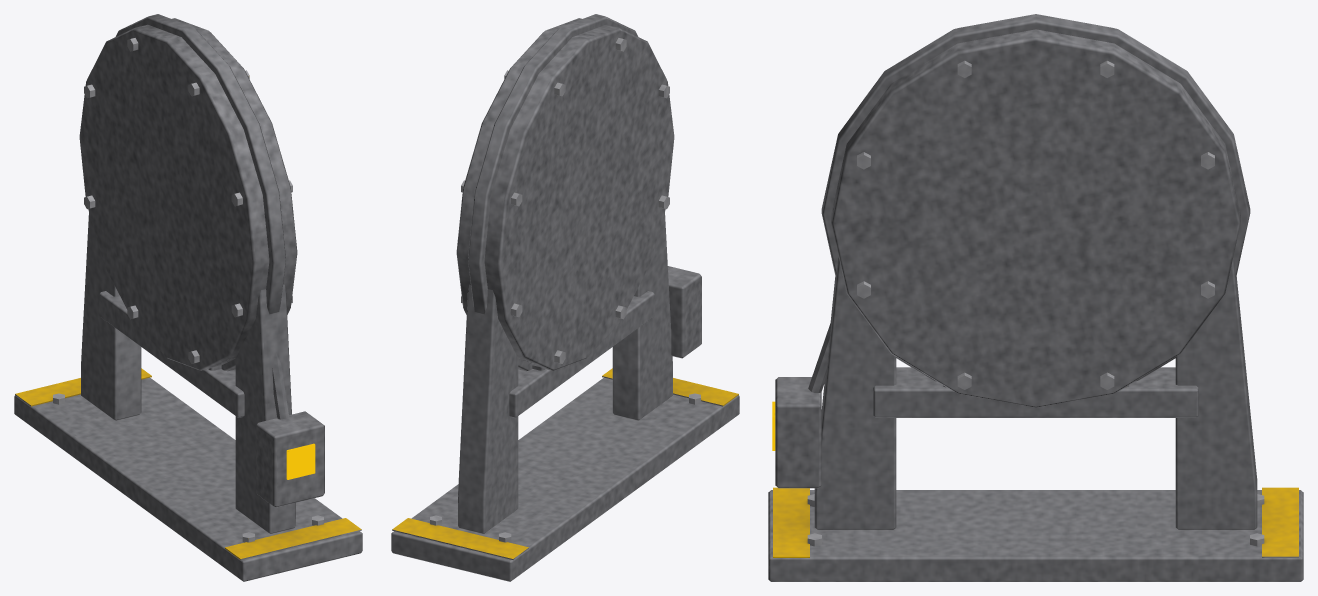
The model's file is nodexeus-cradle.glb.
The picture shows the model from 3 angles, left to right: view 1: azimuth 30°, elevation 25°; view 2: azimuth 150°, elevation 25°; view 3: azimuth 270°, elevation 25°; orthographic projection. The views are drawn at different scales.
Visible parts, largest first — view 1: cradle; view 2: cradle; view 3: cradle.
Part boxes in pixels (x1,y1,x2,y2): cradle: (14, 14, 362, 581); cradle: (391, 14, 739, 581); cradle: (768, 14, 1303, 581).
Bounding box in the file's own units: 0.7 × 2.52 × 2.3.
Materials: 1 (1 with a texture image).
